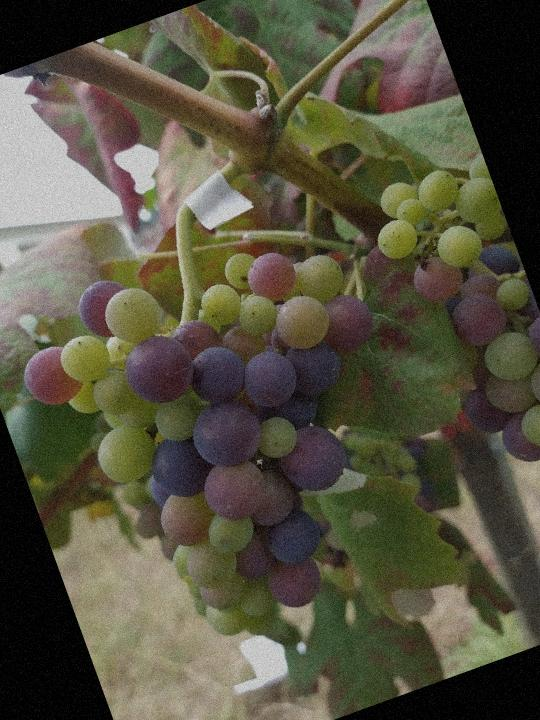grape: (0, 195, 464, 686), (356, 148, 540, 510)
